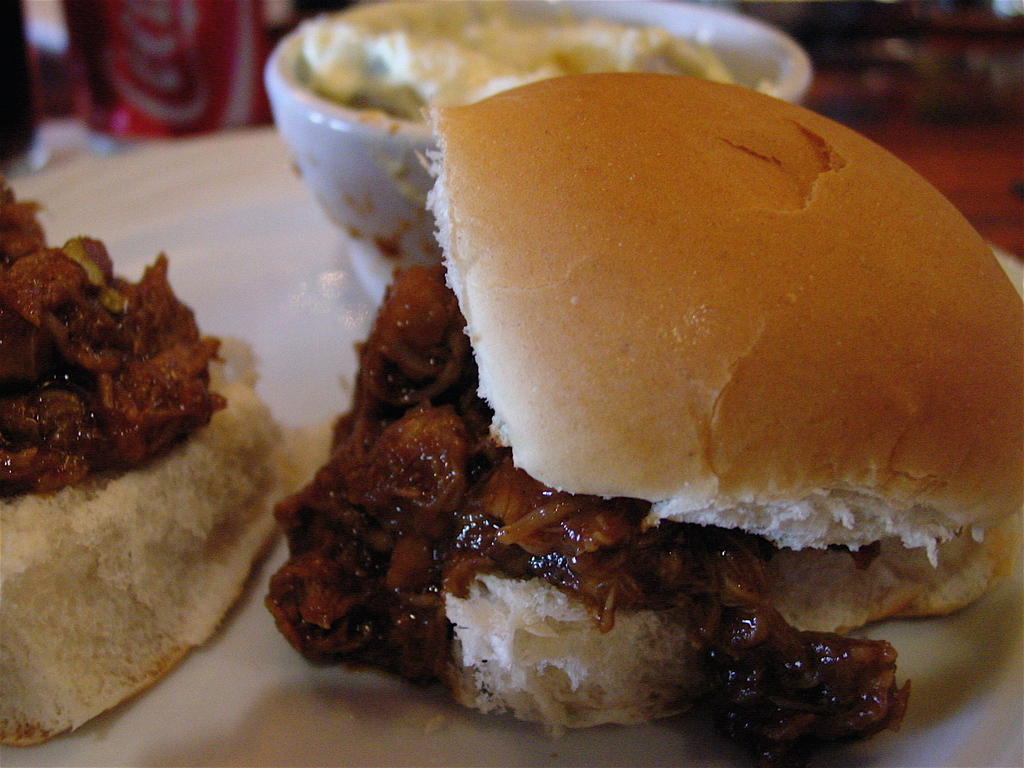Hamburger: (272, 72, 1023, 767)
